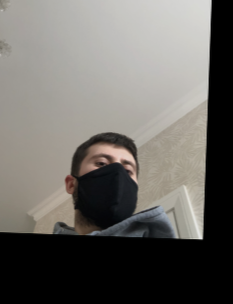with_mask: (76, 150, 138, 227)
